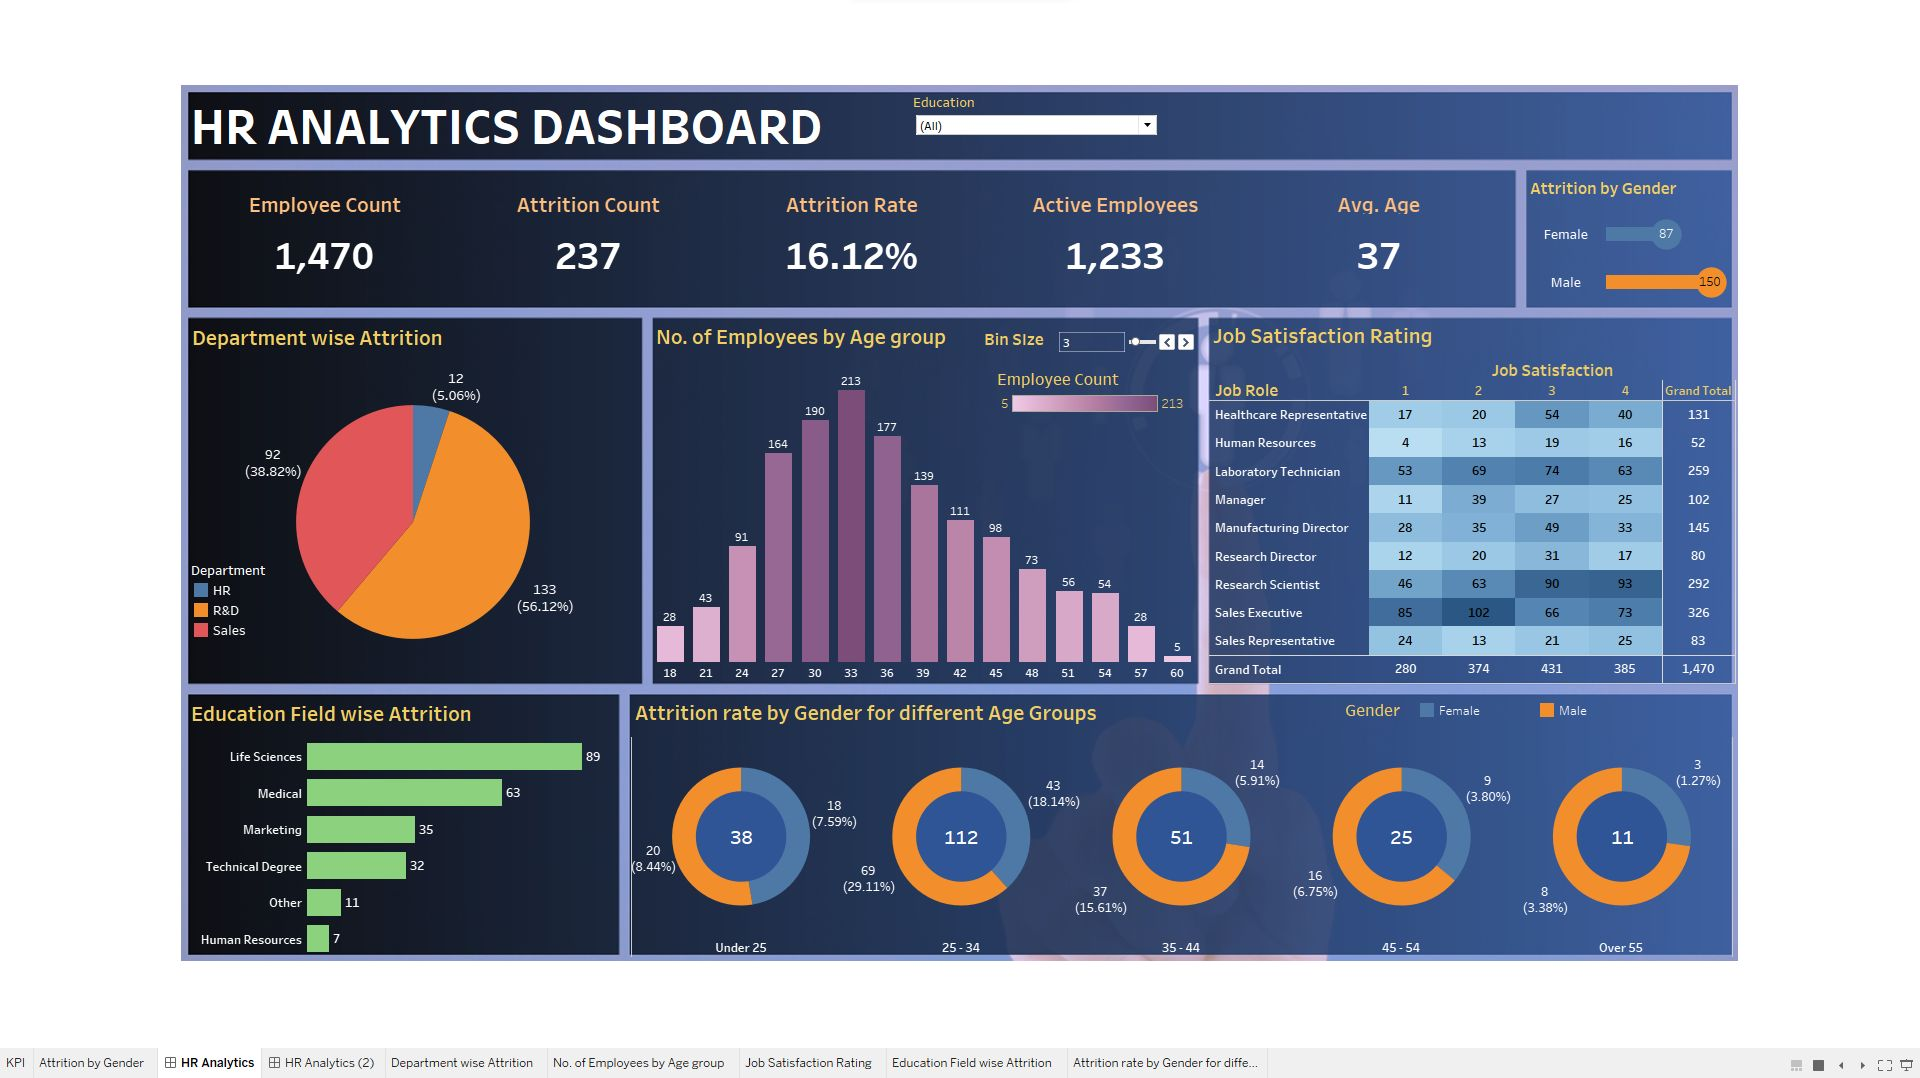

The page's visual inventory and layout, read from the dashboard file:
{"tool":"tableau","page":{"name":"HR Analytics","canvas":[1600,900],"ordinal":0},"visuals":[{"type":"image","param":"Image/HR background.png","box":[8,8,1584,884]},{"type":"text","box":[28,14,780,75]},{"type":"filter","title":"Department wise Attrition","param":"[federated.13efdvk0evf6np120exh10325y47].[none:Education:nk]","box":[753,20,247,60]},{"type":"worksheet","title":"Attrition by Gender","mark":"Automatic","rows":["Gender"],"cols":["Calculation_2927339818718978048","Calculation_2927339818718978048"],"box":[1366,100,206,133]},{"type":"worksheet","title":"KPI","mark":"Automatic","box":[33,106,1318,116]},{"type":"worksheet","title":"Job Satisfaction Rating","mark":"Square","rows":["Job Role"],"cols":["Job Satisfaction"],"box":[1049,244,527,367]},{"type":"worksheet","title":"No. of Employees by Age group","mark":"Automatic","rows":["Employee Count"],"cols":["Age (bin)"],"box":[492,245,544,364]},{"type":"worksheet","title":"Department wise Attrition","mark":"Pie","box":[28,246,450,363]},{"type":"parameter","param":"[Parameters].[Parameter 1]","box":[824,256,213,32]},{"type":"legend","title":"No. of Employees by Age group","param":"[federated.13efdvk0evf6np120exh10325y47].[sum:Employee Count:qk]","box":[837,295,191,48]},{"type":"legend","title":"Department wise Attrition","param":"[federated.13efdvk0evf6np120exh10325y47].[none:Department:nk]","box":[31,488,140,85]},{"type":"worksheet","title":"Attrition rate by Gender for different Age Groups","mark":"Pie","rows":["Calculation_2927339818908766213","Calculation_2927339818908766213"],"cols":["CF_age band"],"box":[471,621,1102,264]},{"type":"worksheet","title":"Education Field wise Attrition","mark":"Automatic","rows":["Education Field"],"cols":["Calculation_2927339818718978048"],"box":[27,622,432,262]},{"type":"legend","title":"Attrition rate by Gender for different Age Groups","param":"[federated.13efdvk0evf6np120exh10325y47].[none:Gender:nk]","box":[1185,627,381,38]}]}

Visuals, with their boxes on the page's 1600x900 design canvas (x1, y1, x2, y2). These are canvas units, not pixel positions in the 1920x1078 screenshot, which may show the page scaled, cropped or inside an application window:
image: (left=8, top=8, right=1592, bottom=892)
text: (left=28, top=14, right=808, bottom=89)
"Department wise Attrition" filter: (left=753, top=20, right=1000, bottom=80)
"Attrition by Gender" worksheet: (left=1366, top=100, right=1572, bottom=233)
"KPI" worksheet: (left=33, top=106, right=1351, bottom=222)
"Job Satisfaction Rating" worksheet (Square marks): (left=1049, top=244, right=1576, bottom=611)
"No. of Employees by Age group" worksheet: (left=492, top=245, right=1036, bottom=609)
"Department wise Attrition" worksheet (Pie marks): (left=28, top=246, right=478, bottom=609)
parameter: (left=824, top=256, right=1037, bottom=288)
"No. of Employees by Age group" legend: (left=837, top=295, right=1028, bottom=343)
"Department wise Attrition" legend: (left=31, top=488, right=171, bottom=573)
"Attrition rate by Gender for different Age Groups" worksheet (Pie marks): (left=471, top=621, right=1573, bottom=885)
"Education Field wise Attrition" worksheet: (left=27, top=622, right=459, bottom=884)
"Attrition rate by Gender for different Age Groups" legend: (left=1185, top=627, right=1566, bottom=665)
